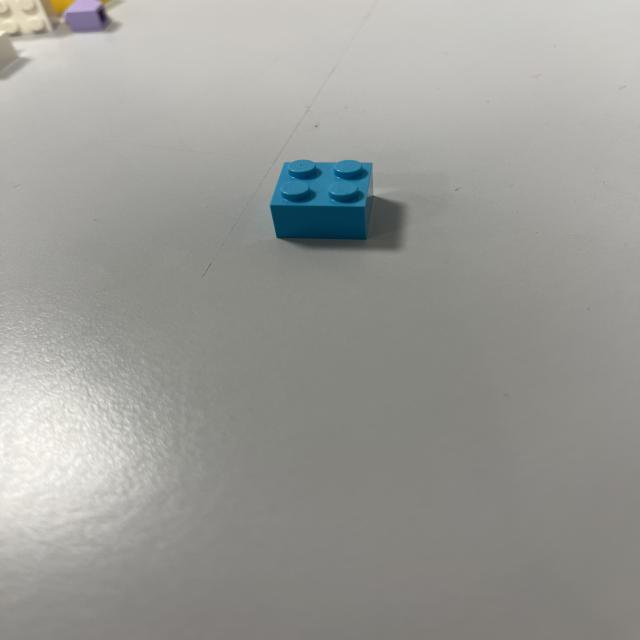C2x1x1: (269, 158, 374, 240)
